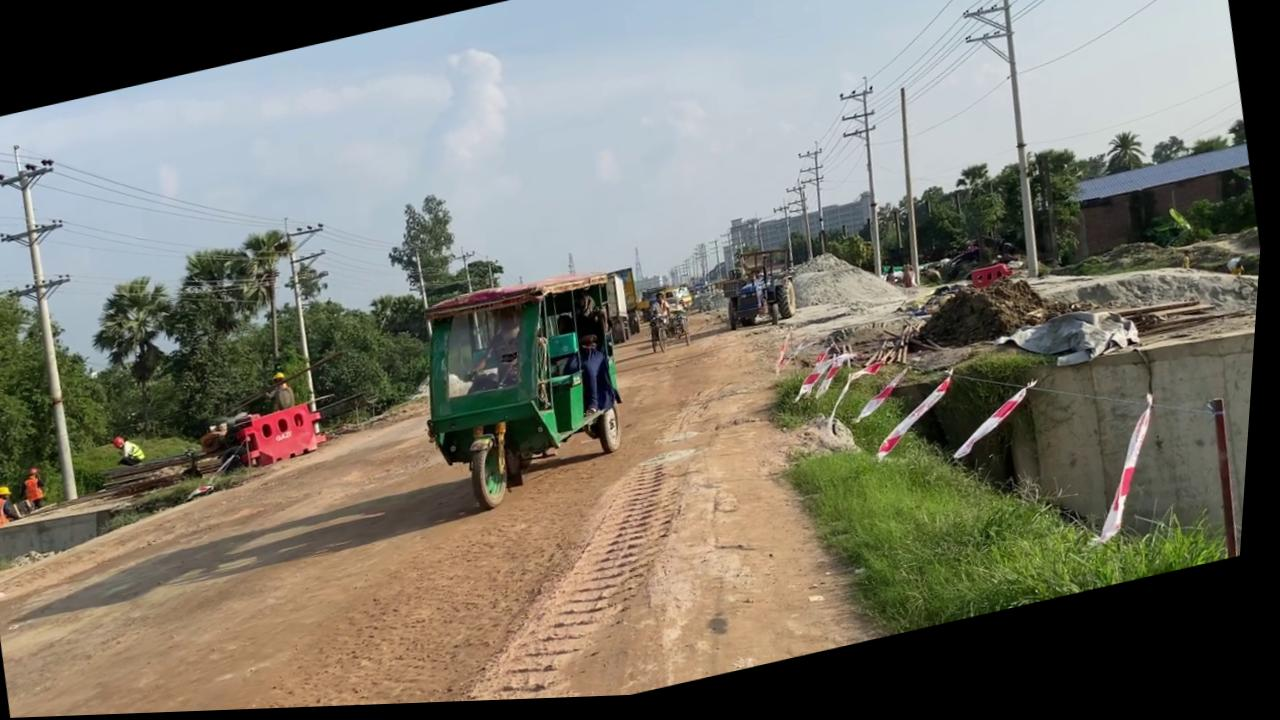Construction-barrier: (235, 399, 336, 473)
Muddy road: (0, 327, 918, 719)
Pole: (0, 134, 125, 510), (969, 0, 1066, 288), (879, 91, 943, 294)
Railroad-crossing: (637, 283, 707, 364)
Traffic-sign: (79, 269, 202, 451), (223, 224, 321, 384)
Tree: (401, 259, 665, 526), (717, 245, 807, 340)
